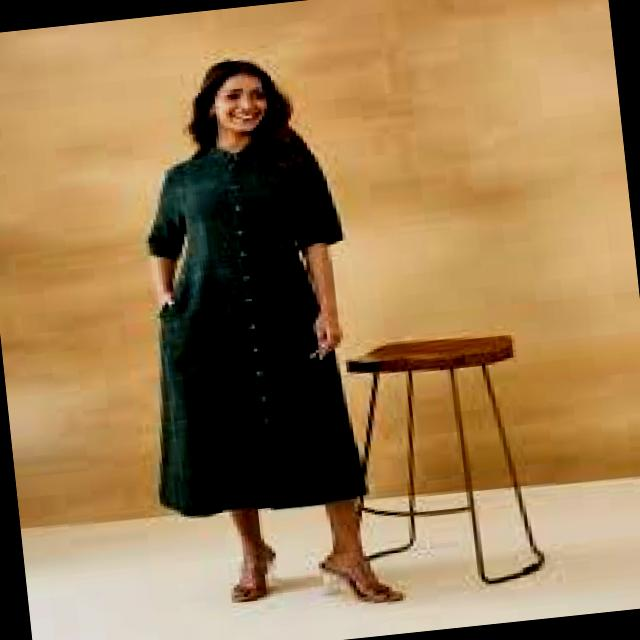dress: (148, 143, 368, 515)
